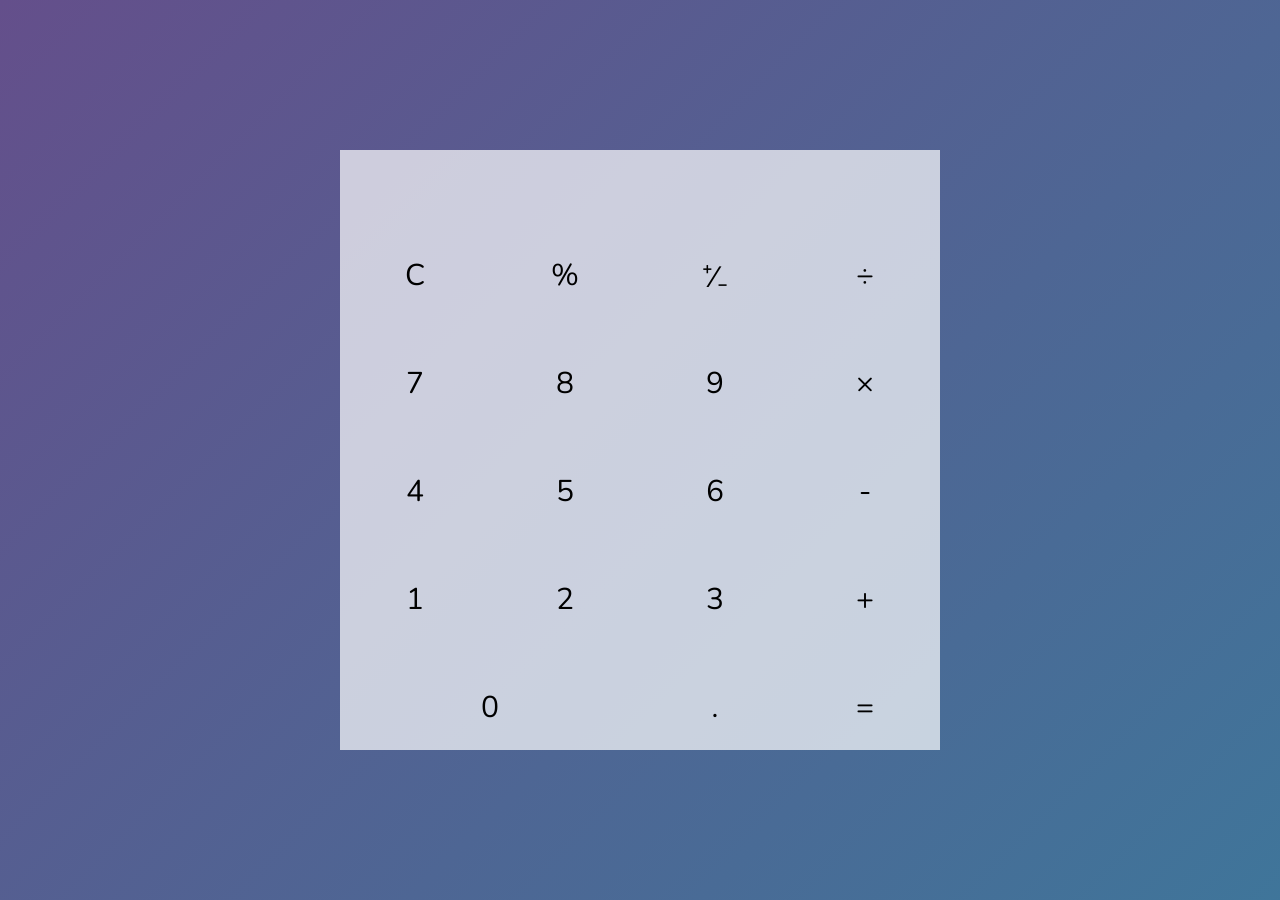
Test case: App › Test plus-minus
What coordinates should you click on to do the following:
click the element with test id "test-btn-3"
I would click on:
 (715, 600)
Its box is left=706, top=579, right=724, bottom=620.
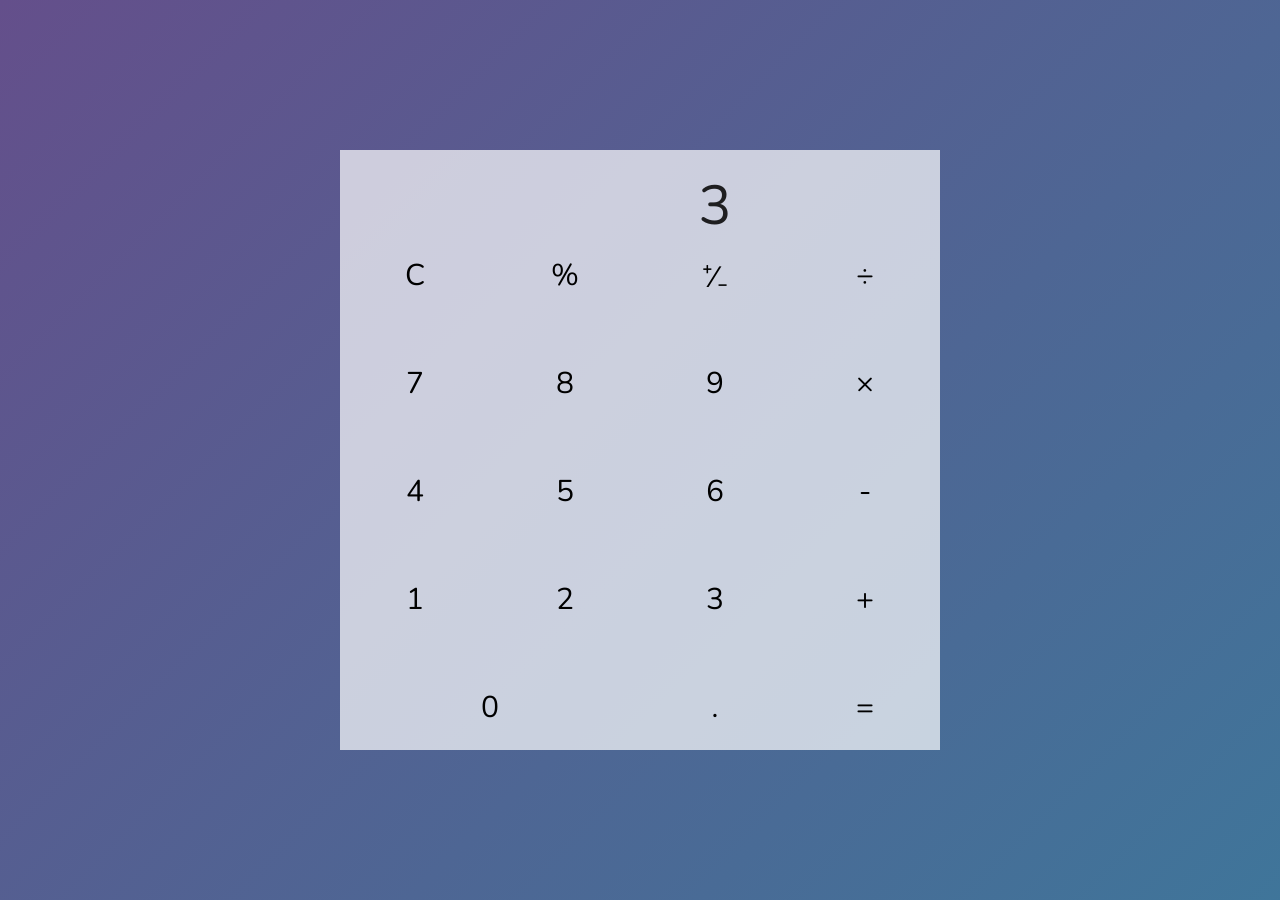
What coordinates should you click on to do the following:
click the element with test id "test-btn-plusminus"
I would click on:
 (715, 278)
Its box is left=702, top=257, right=728, bottom=298.
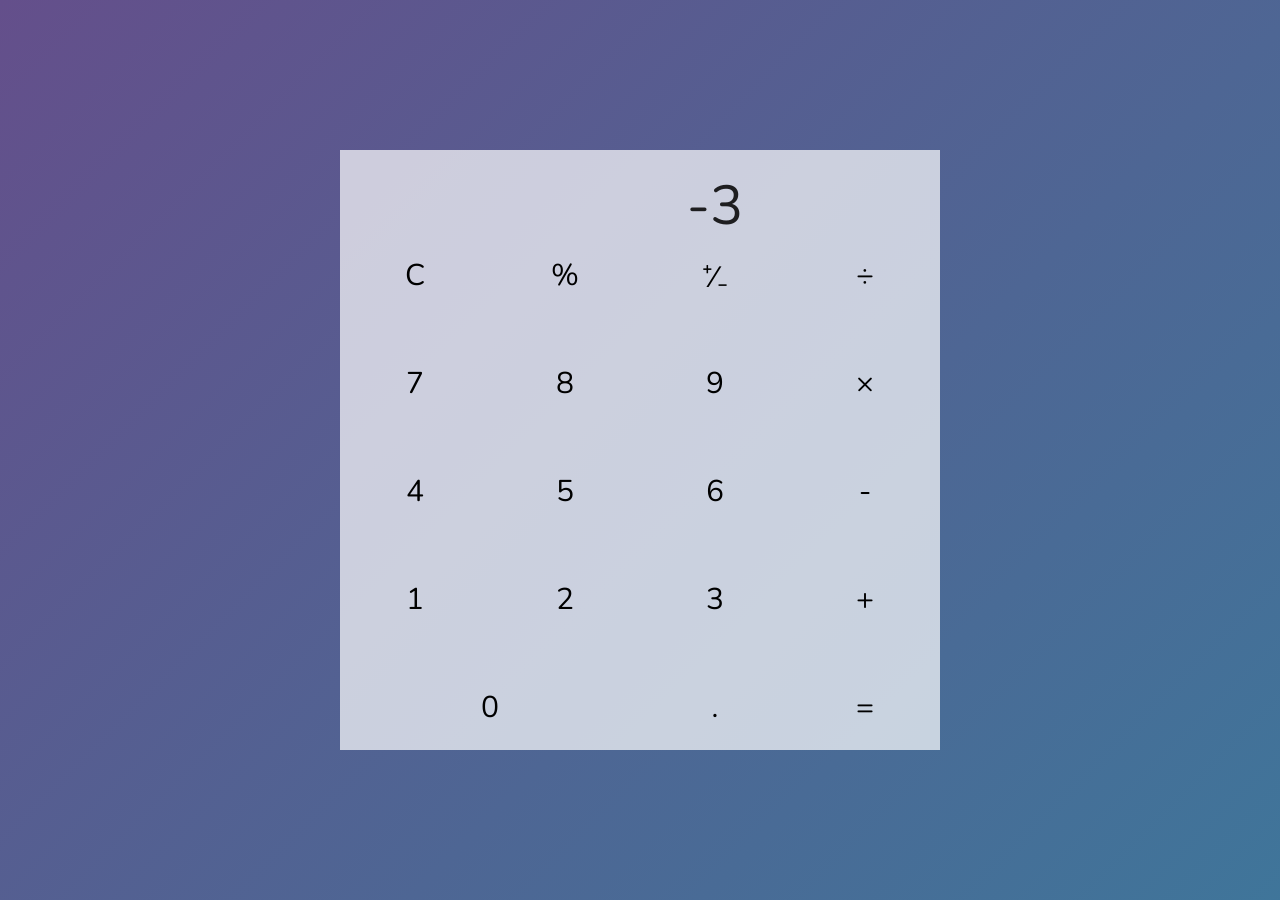
Now the text with test id "test-value" reads "-3", box left=687, top=168, right=743, bottom=243
